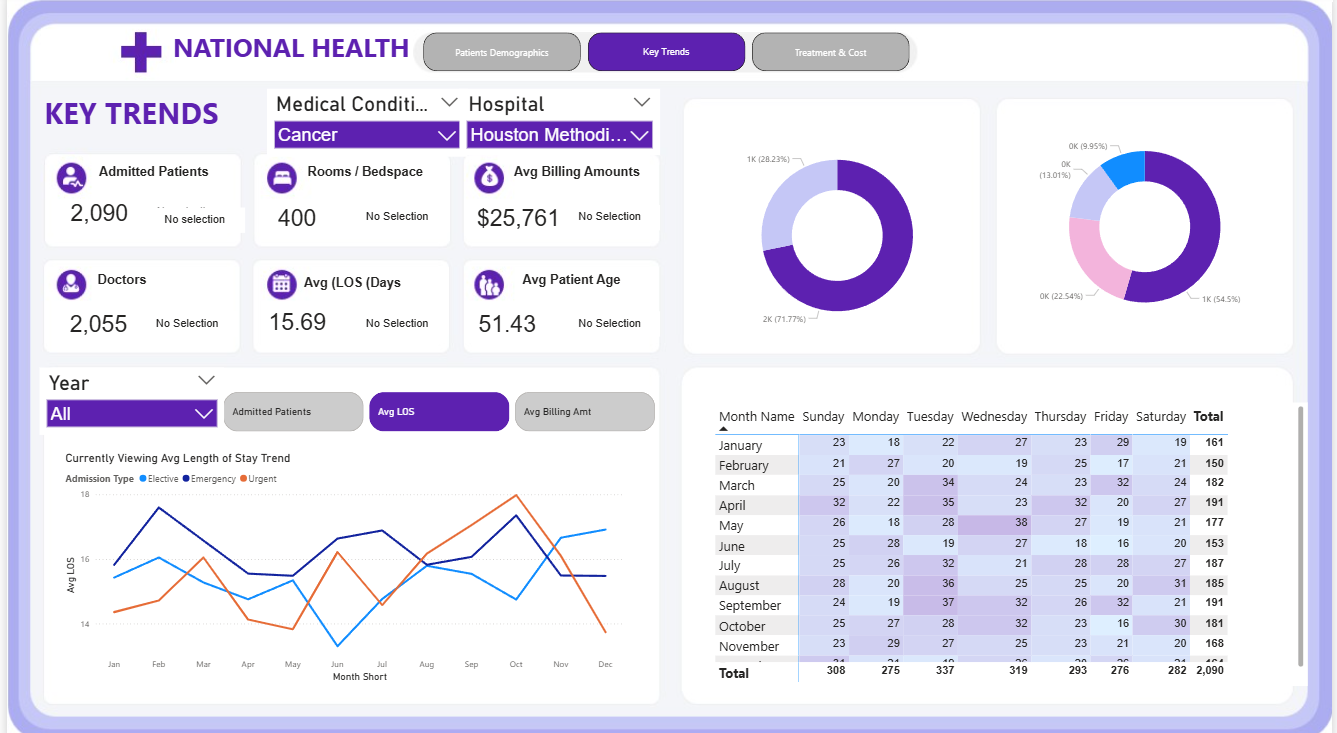

This screenshot's page, from the dashboard's own definition file:
{"tool":"powerbi","page":{"name":"Key Trends","canvas":[1920,1080],"ordinal":1},"visuals":[{"type":"textbox","box":[122.9,240,191.4,44.3],"z":0},{"type":"textbox","box":[420,240,201.4,44.3],"z":1000},{"type":"textbox","box":[724.3,240,204.3,54.3],"z":2000},{"type":"textbox","box":[117.1,284.3,101.4,10],"z":3000},{"type":"textbox","box":[115.7,397.1,207.1,41.4],"z":4000},{"type":"textbox","box":[420,401.4,221.4,40],"z":5000},{"type":"textbox","box":[731.4,397.1,191.4,44.3],"z":6000},{"type":"card","fields":{"Values":["DAX.Rooms"]},"box":[334.3,288.6,171.4,68.6],"z":7000},{"type":"card","fields":{"Values":["DAX.Avg Billing Amt"]},"box":[655.7,288.6,171.4,68.6],"z":8000},{"type":"card","fields":{"Values":["DAX.Avg LOS"]},"box":[334.3,438.6,171.4,68.6],"z":9000},{"type":"card","fields":{"Values":["DAX.Average age"]},"box":[638.6,441.4,171.4,68.6],"z":10000},{"type":"card","fields":{"Values":["DAX.Adm YoY"]},"box":[188.6,297.1,145.7,37.1],"z":11000},{"type":"card","fields":{"Values":["DAX.Room YoY"]},"box":[492.9,304.3,145.7,37.1],"z":12000},{"type":"card","fields":{"Values":["DAX.Bill YoY"]},"box":[800,304.3,145.7,37.1],"z":13000},{"type":"card","fields":{"Values":["DAX.Doc YoY"]},"box":[188.6,457.1,145.7,37.1],"z":14000},{"type":"card","fields":{"Values":["DAX.LOS YoY"]},"box":[492.9,457.1,145.7,37.1],"z":15000},{"type":"card","fields":{"Values":["DAX.Age YoY"]},"box":[800,457.1,145.7,37.1],"z":16000},{"type":"card","fields":{"Values":["DAX.Adm YoY"]},"box":[198.6,307.1,145.7,37.1],"z":17000},{"type":"card","fields":{"Values":["DAX.Admitted Patients"]},"box":[48.6,288.6,170,52.9],"z":18000},{"type":"card","fields":{"Values":["DAX.Doctors"]},"box":[47.1,441.4,171.4,68.6],"z":19000},{"type":"pageNavigator","box":[602,54,704,56],"z":20000},{"type":"textbox","box":[236,46,366,72],"z":21000},{"type":"textbox","box":[48,136,296,72],"z":22000},{"type":"slicer","fields":{"Values":["DimCondition.Medical Condition"]},"box":[376,136,290,98],"z":23000},{"type":"slicer","fields":{"Values":["HealthData.Hospital"]},"box":[656,136,290,96],"z":24000},{"type":"advancedSlicerVisual","fields":{"Values":["KPI.KPI"]},"box":[292.5,570,667.5,67.5],"z":25000},{"type":"lineChart","fields":{"Y":["DAX.Avg LOS"],"Category":["Calendar.Month Short"],"Series":["HealthData.Admission Type"]},"box":[80,660,818,340],"z":26000},{"type":"donutChart","fields":{"Y":["DAX.Admitted Patients"],"Category":["Calendar.Day Type"]},"box":[1006,186,392,324],"z":27000},{"type":"donutChart","fields":{"Y":["DAX.Admitted Patients"],"Category":["HealthData.LOS Bucket"]},"box":[1452,174,392,324],"z":28000},{"type":"pivotTable","fields":{"Rows":["Calendar.Month Name"],"Columns":["Calendar.Week"],"Values":["DAX.Admitted Patients"]},"box":[1020,590,862,410],"z":29000},{"type":"slicer","fields":{"Values":["Calendar.Year"]},"box":[47.5,540,267.5,97.5],"z":30000}]}

Visuals, with their boxes in screenshot pixels (x1, y1, x2, y2), scaled from the page's 1920x1080 canvas onto the 1337x733 screenshot:
textbox: left=86, top=163, right=219, bottom=193
textbox: left=292, top=163, right=433, bottom=193
textbox: left=504, top=163, right=647, bottom=200
textbox: left=82, top=193, right=152, bottom=200
textbox: left=81, top=270, right=225, bottom=298
textbox: left=292, top=272, right=447, bottom=300
textbox: left=509, top=270, right=643, bottom=300
card - DAX.Rooms: left=233, top=196, right=352, bottom=242
card - DAX.Avg Billing Amt: left=457, top=196, right=576, bottom=242
card - DAX.Avg LOS: left=233, top=298, right=352, bottom=344
card - DAX.Average age: left=445, top=300, right=564, bottom=346
card - DAX.Adm YoY: left=131, top=202, right=233, bottom=227
card - DAX.Room YoY: left=343, top=207, right=445, bottom=232
card - DAX.Bill YoY: left=557, top=207, right=659, bottom=232
card - DAX.Doc YoY: left=131, top=310, right=233, bottom=335
card - DAX.LOS YoY: left=343, top=310, right=445, bottom=335
card - DAX.Age YoY: left=557, top=310, right=659, bottom=335
card - DAX.Adm YoY: left=138, top=208, right=240, bottom=234
card - DAX.Admitted Patients: left=34, top=196, right=152, bottom=232
card - DAX.Doctors: left=33, top=300, right=152, bottom=346
pageNavigator: left=419, top=37, right=909, bottom=75
textbox: left=164, top=31, right=419, bottom=80
textbox: left=33, top=92, right=240, bottom=141
slicer - DimCondition.Medical Condition: left=262, top=92, right=464, bottom=159
slicer - HealthData.Hospital: left=457, top=92, right=659, bottom=157
advancedSlicerVisual - KPI.KPI: left=204, top=387, right=668, bottom=433
lineChart - DAX.Avg LOS x Calendar.Month Short: left=56, top=448, right=625, bottom=679
donutChart - DAX.Admitted Patients x Calendar.Day Type: left=701, top=126, right=974, bottom=346
donutChart - DAX.Admitted Patients x HealthData.LOS Bucket: left=1011, top=118, right=1284, bottom=338
pivotTable - Calendar.Month Name x Calendar.Week: left=710, top=400, right=1311, bottom=679
slicer - Calendar.Year: left=33, top=366, right=219, bottom=433
